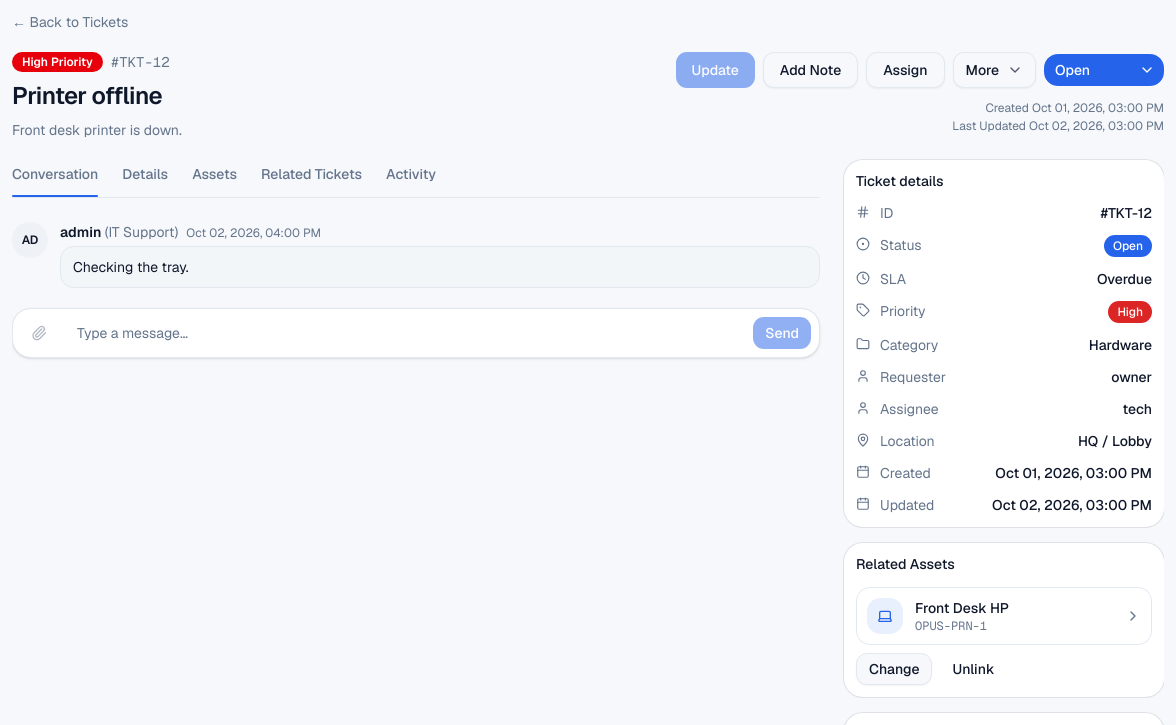
Test case: TicketWorkspace — conversation vs activity › moves system lines onto the Activity tab
This screenshot has width=1176, height=725.
Click the tab "Activity" at (411, 179), box [386,160,436,198]
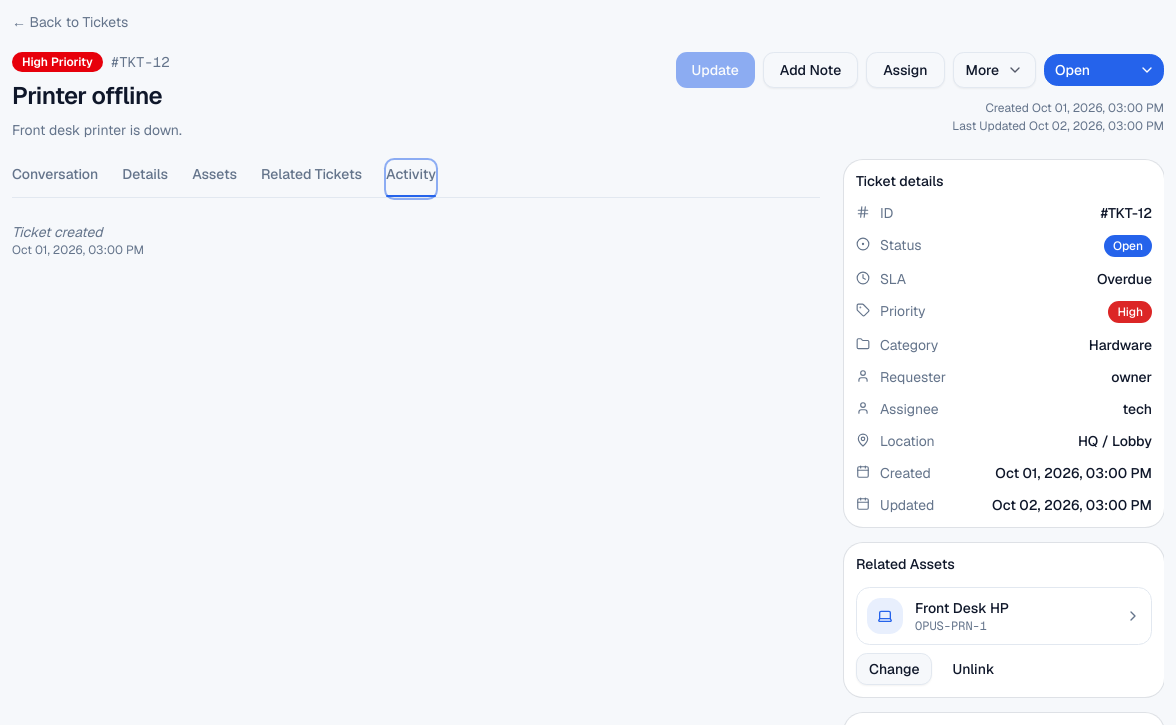
Expected: the panel shows "Ticket created", [12,223,103,241]
Expected: the panel no longer shows "Checking the tray.", [12,223,144,258]
